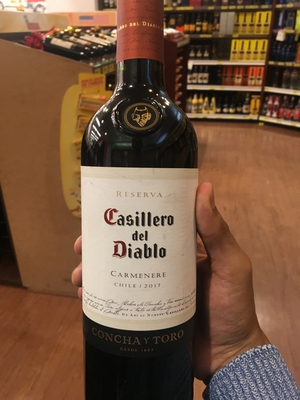casillero del diablo carmenere: (80, 26, 206, 393)
